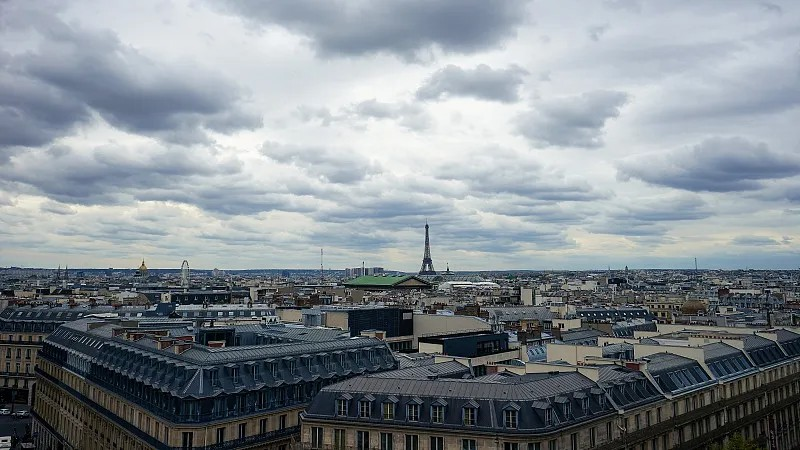Eiffel: (419, 217, 437, 276)
